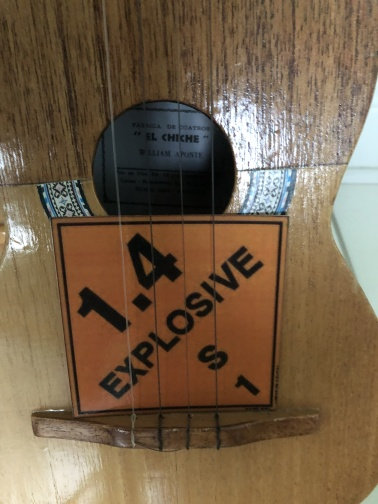Explosive: (56, 217, 277, 407)
